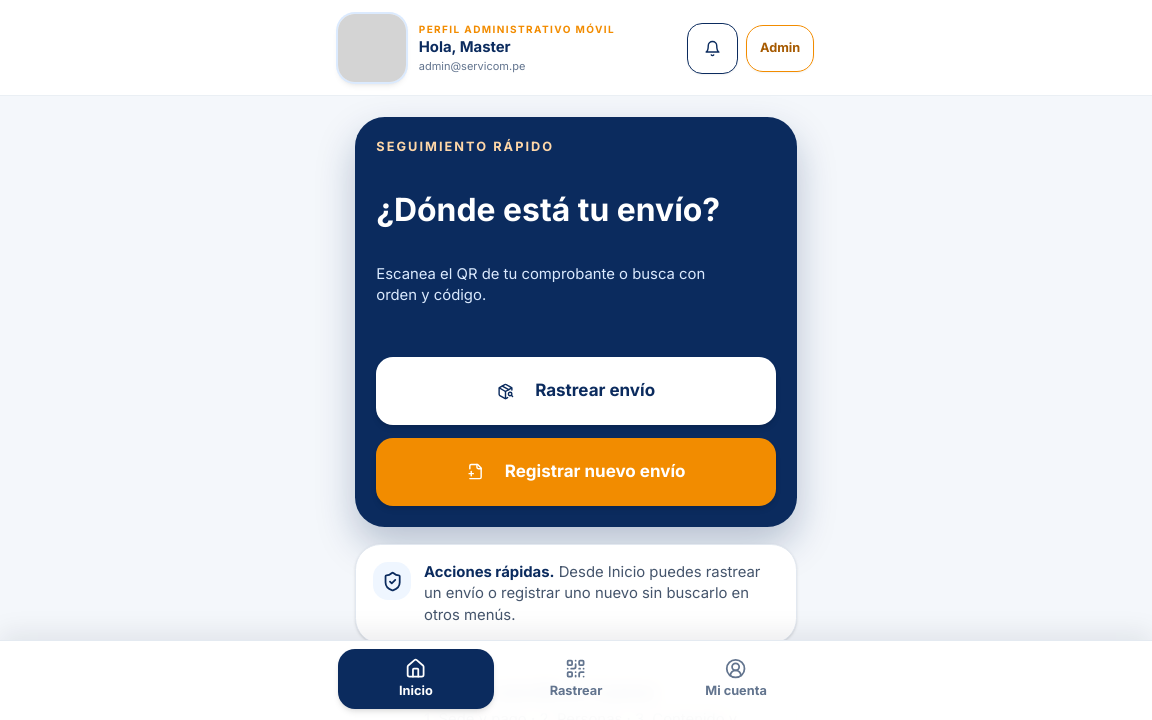
MobileAppPage › muestra la sesión administrativa y su perfil amplio en la app móvil
The image size is (1152, 720).
Expected: the text "Perfil administrativo móvil" is shown, 419,22 -> 615,37
Expected: the text "Hola, Master" is shown, 419,38 -> 511,56
Click the button "Mi cuenta": (736, 679) 658,650 -> 814,709
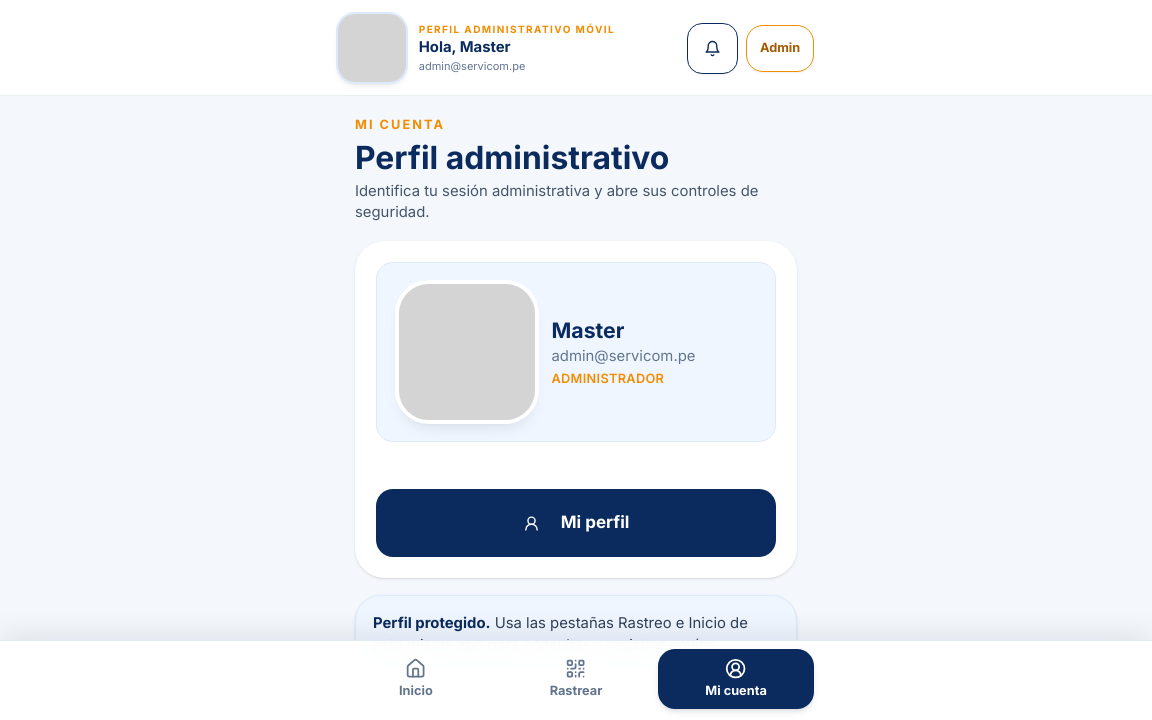
Now the heading "Perfil administrativo" is shown, box 355,138 -> 669,177
